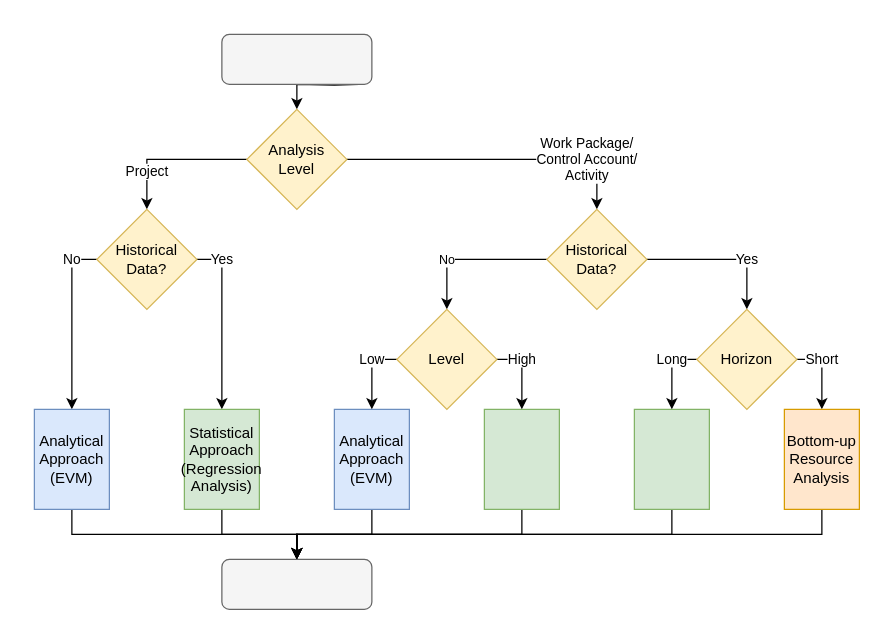
The diagram is 893 pixels wide and 643 high, and some of its shapes have lost their labels. The box of each missing label's shape, as (x1, y1, x2, y2) in pixels:
End: (221, 558, 372, 609)
Start: (221, 33, 372, 84)
Statistical Approach (Bayesian Simulation): (483, 408, 559, 509)
Statistical Approach (Simulation): (633, 408, 709, 509)
